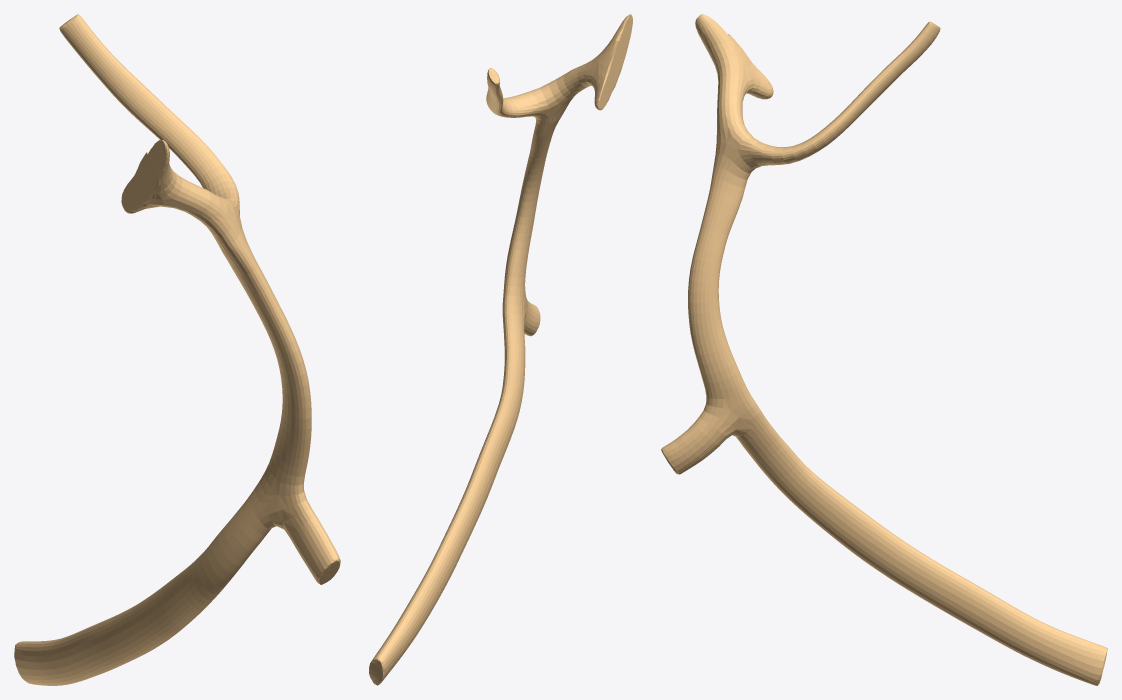
3 renders of one model, left to right at view 1: azimuth 30°, elevation 25°; view 2: azimuth 150°, elevation 25°; view 3: azimuth 270°, elevation 25°, orthographic. The views are drawn at different scales.
Visible parts, largest first — view 1: N_C5; view 2: N_C5; view 3: N_C5.
Boxes of the visible parts, x1,y1,x2,y2 form: N_C5: [14, 14, 340, 685]; N_C5: [369, 14, 632, 685]; N_C5: [661, 14, 1107, 685].
Size of the model in its own units: 0.000598 by 0.00271 by 0.00171.
